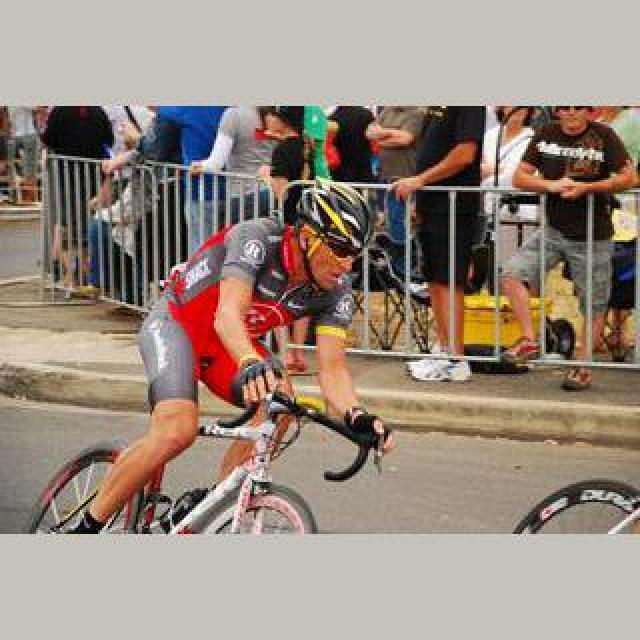MC-Bike: (84, 184, 396, 538), (504, 106, 636, 380), (380, 108, 486, 374)
Person: (22, 400, 334, 534)
